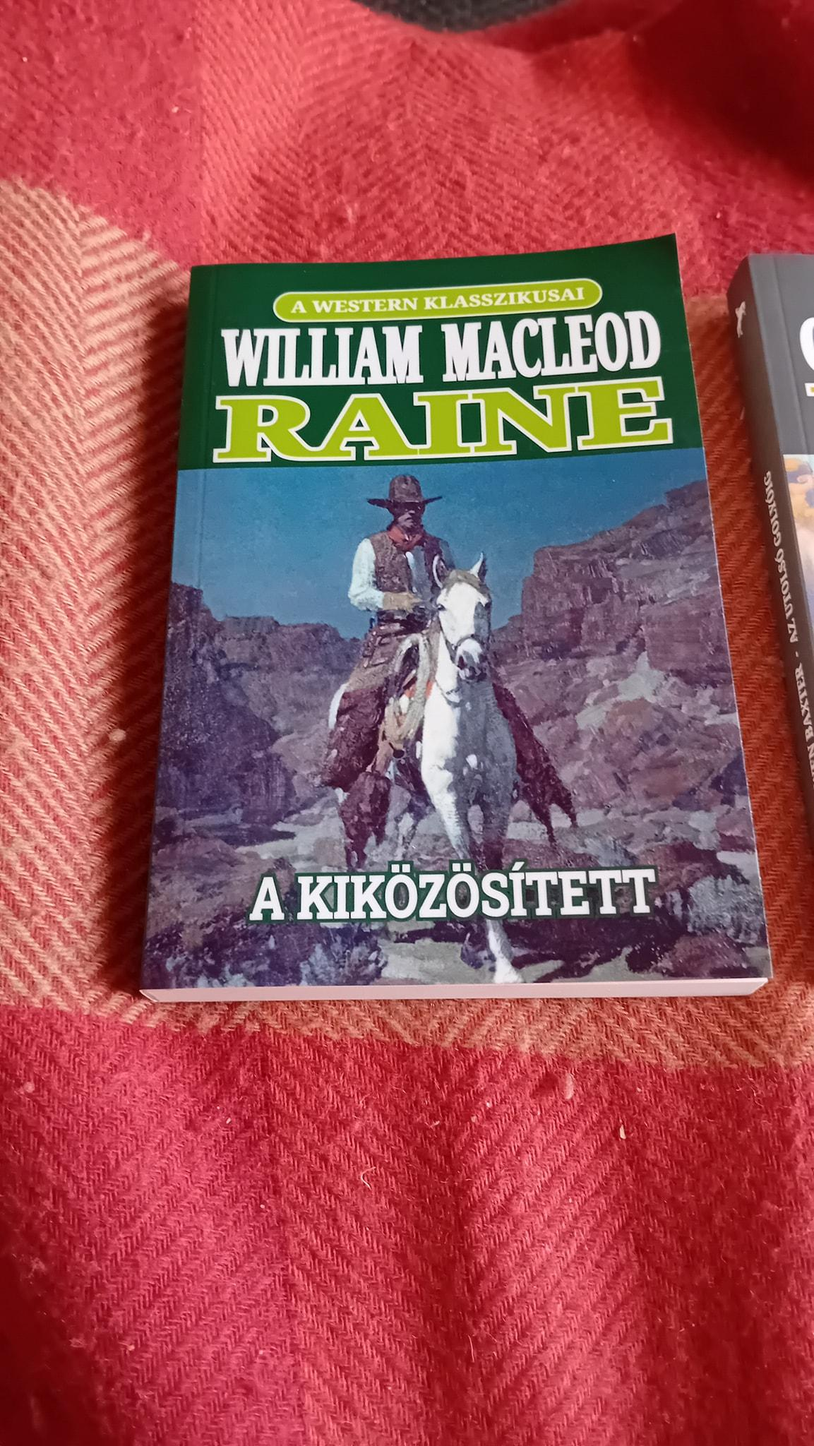comic: (98, 234, 770, 1030)
